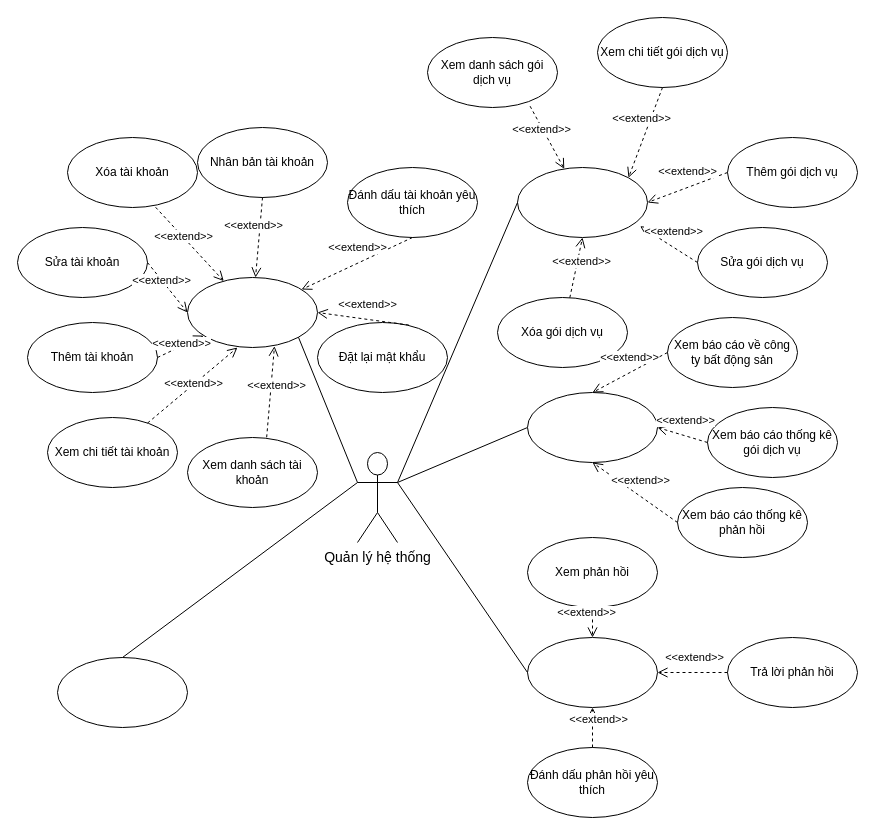
The diagram is 875 pixels wide and 835 high, and some of its shapes have lost their labels. Each missing label, with the centre of its shape:
Gán gói dịch vụ cho công ty: point 122,692
Quản lý gói dịch vụ: point 582,202
Quản lý phản hồi: point 592,672
Quản lý tài khoản công ty bất động sản: point 252,312
Xem báo cáo: point 592,427
